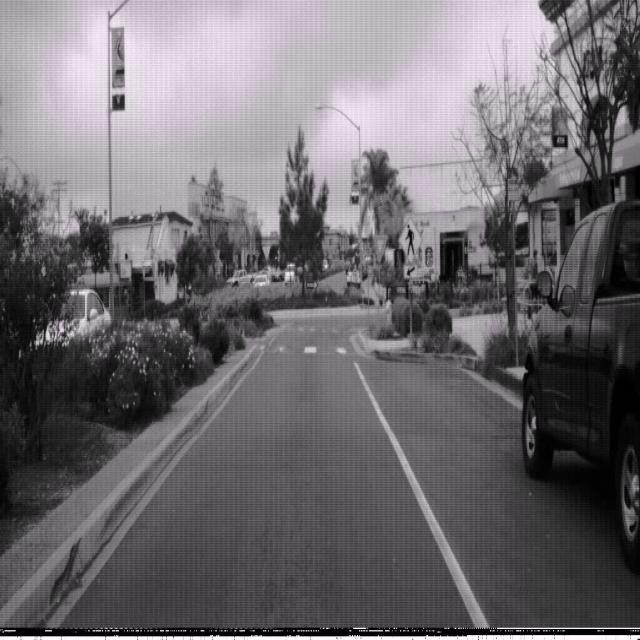pedestrianCrossing: (398, 214, 422, 264)
yield: (372, 233, 388, 262)
